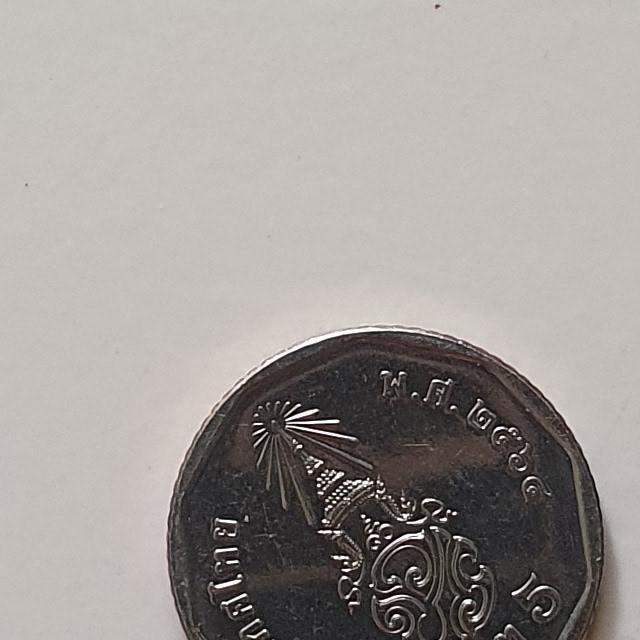5 Bath: (157, 320, 621, 640)
